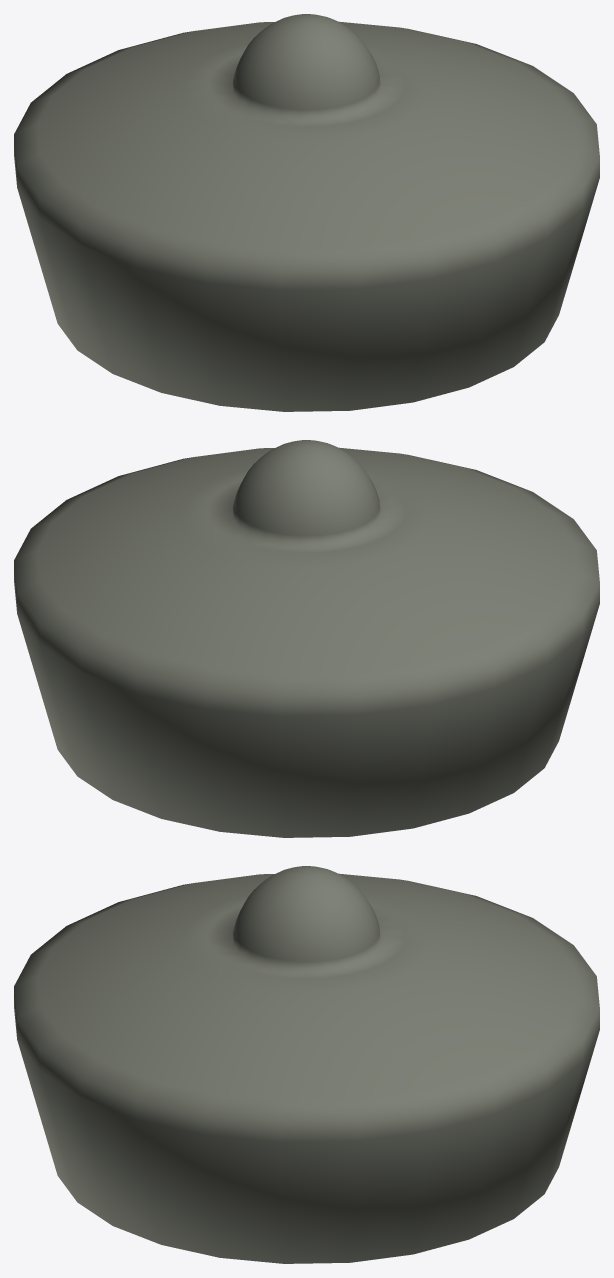
File: talempong.FBX
3 renders of one model, top to bottom at view 1: azimuth 30°, elevation 25°; view 2: azimuth 150°, elevation 25°; view 3: azimuth 270°, elevation 25°, orthographic.
Parts seen in each view (by area): view 1: talempong; view 2: talempong; view 3: talempong.
Boxes of the visible parts, left/top/right/bottom form: talempong: left=14, top=14, right=599, bottom=411; talempong: left=14, top=440, right=599, bottom=837; talempong: left=14, top=866, right=599, bottom=1263.
Bounding box in the file's own units: 11.9 × 6.4 × 11.9.
Materials: 1 (1 with a texture image).
